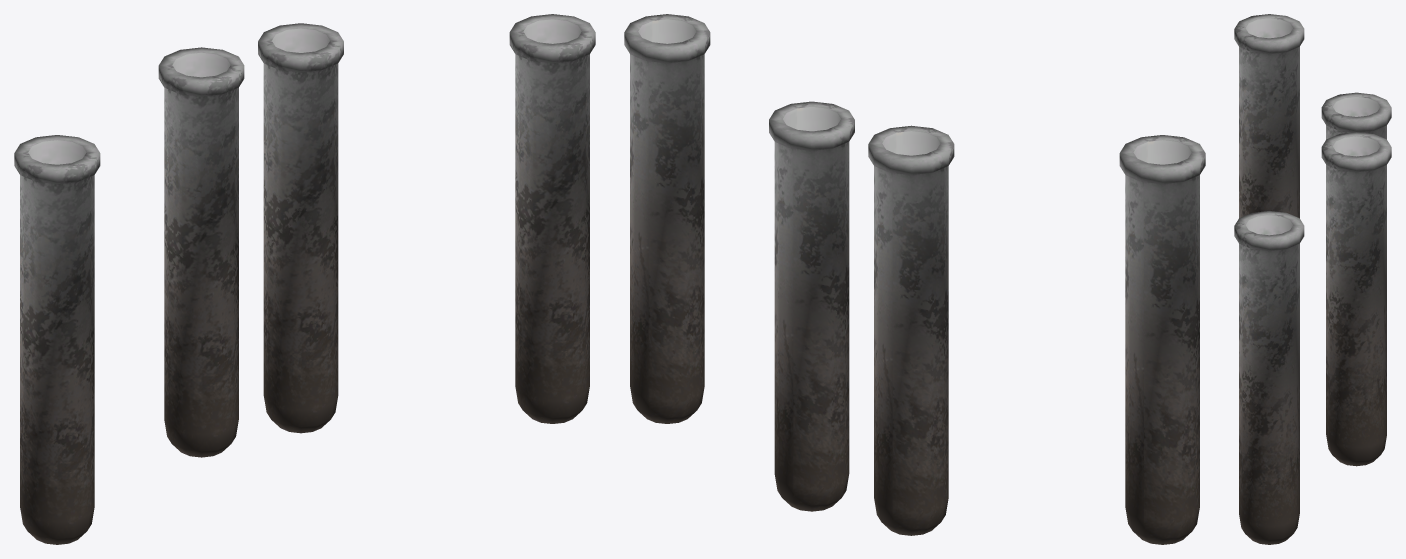
Rendered from glass.DAE.
3 renders of one model, left to right at view 1: azimuth 30°, elevation 25°; view 2: azimuth 150°, elevation 25°; view 3: azimuth 270°, elevation 25°, orthographic. The views are drawn at different scales.
Visible parts, largest first — view 1: glass; view 2: glass; view 3: glass.
Part boxes in pixels (x1=…): glass: x1=14, y1=14, x2=595, y2=544; glass: x1=624, y1=14, x2=1205, y2=544; glass: x1=1234, y1=14, x2=1391, y2=544.
Size of the model in its own units: 14.85 by 4.35 by 9.58.
